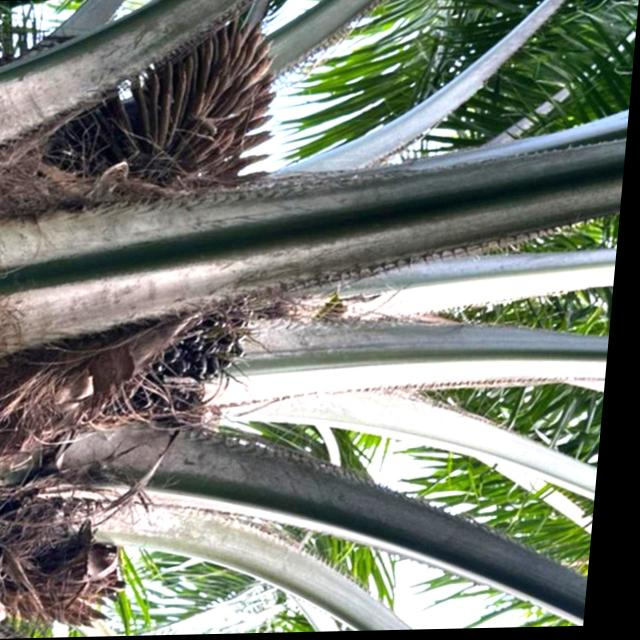almost: (67, 298, 271, 440)
